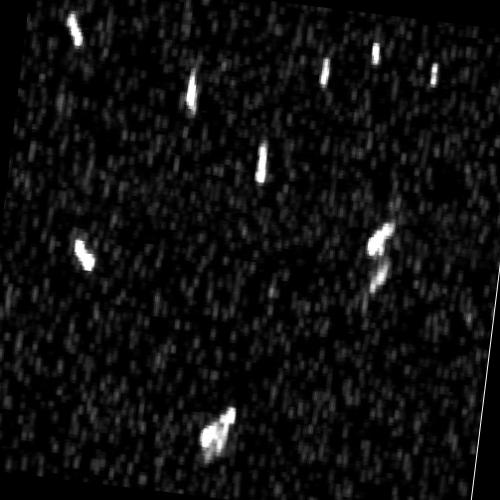ship: (197, 404, 237, 452), (364, 218, 396, 257), (366, 258, 392, 296), (73, 237, 95, 273), (254, 137, 268, 187), (66, 12, 84, 47), (185, 65, 197, 113), (319, 53, 330, 89), (430, 58, 439, 89), (370, 40, 380, 67)
